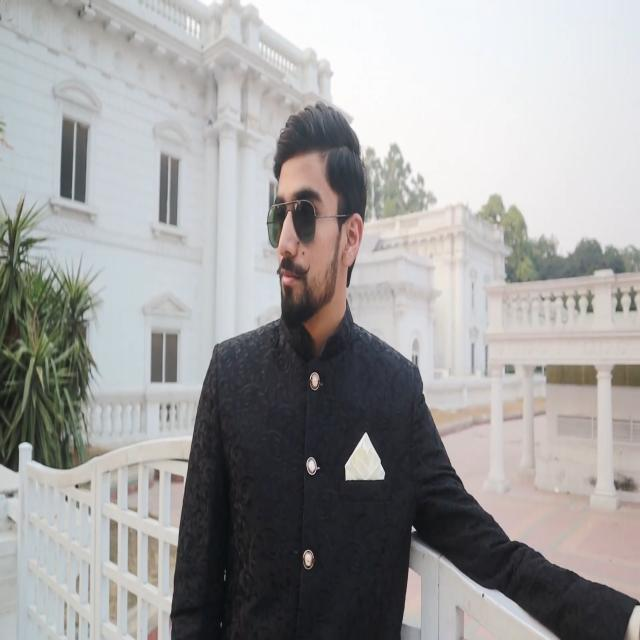dress: (166, 296, 640, 640)
glasses: (265, 196, 319, 253)
